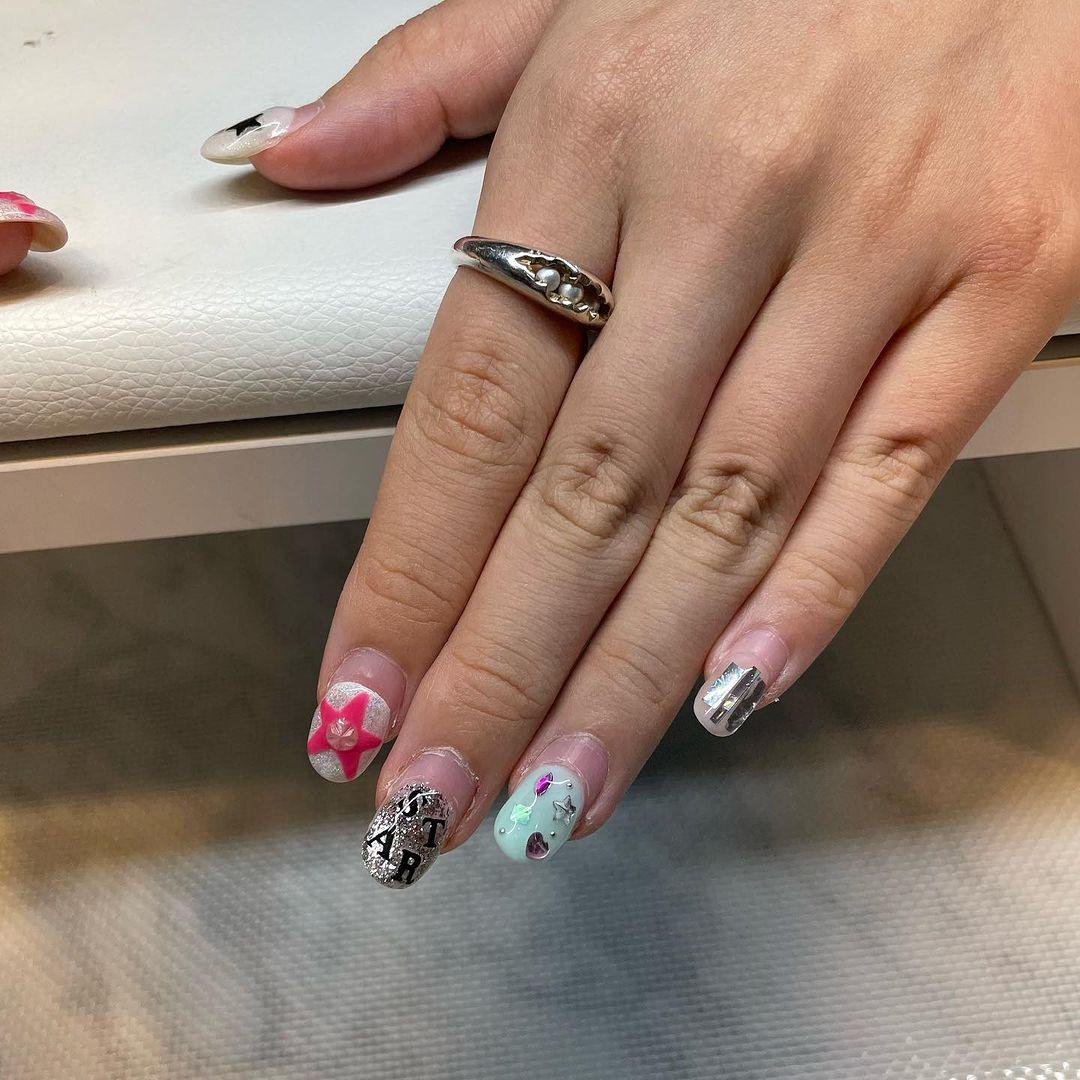nail: (360, 743, 479, 888), (492, 730, 609, 863), (450, 234, 614, 327), (305, 645, 407, 783), (692, 623, 790, 738), (0, 189, 68, 275), (199, 104, 296, 164)
